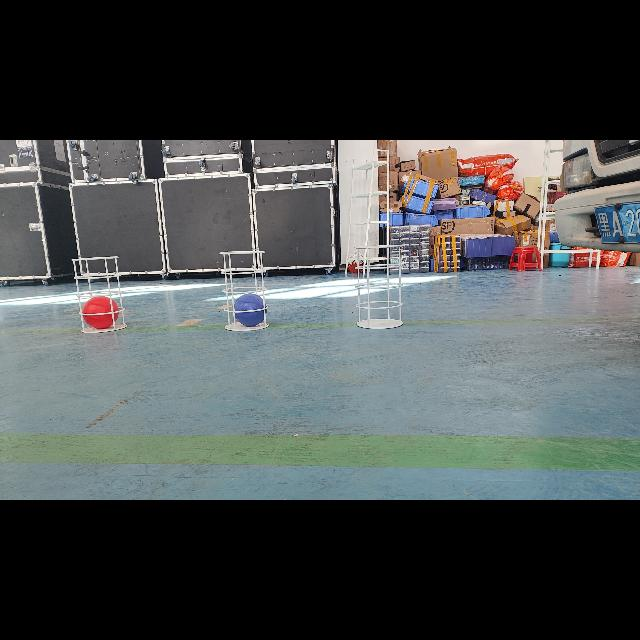B: (232, 292, 268, 326)
R: (83, 298, 119, 328)
S: (65, 255, 128, 335), (218, 250, 278, 334), (352, 245, 406, 332)
